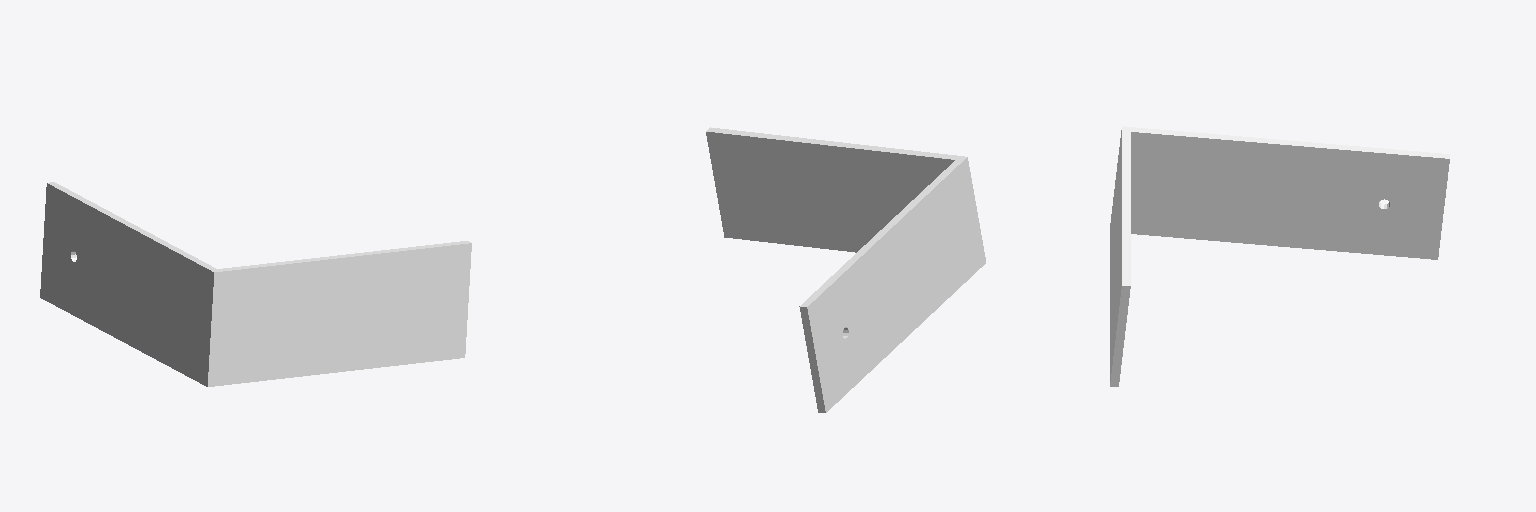
Rendered from Manipulator_Sterowniki_Robotow_III_czlon.obj.
3 renders of one model, left to right at view 1: azimuth 30°, elevation 25°; view 2: azimuth 150°, elevation 25°; view 3: azimuth 270°, elevation 25°, orthographic.
Visible parts, largest first — view 1: Solid1; view 2: Solid1; view 3: Solid1.
Boxes of the visible parts, <box> form: Solid1: <box>40,182,471,386</box>; Solid1: <box>706,127,985,412</box>; Solid1: <box>1110,126,1449,386</box>.
Bounding box in the file's own units: 105 × 52.12 × 113.